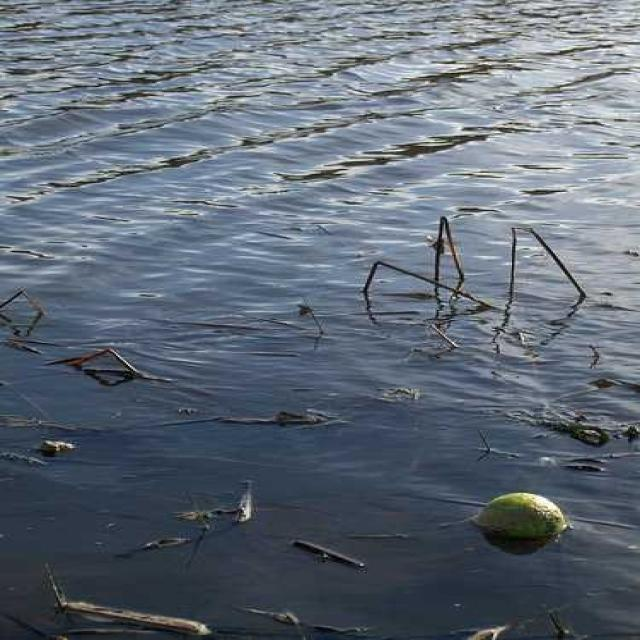Tennis_Ball: (476, 491, 578, 544)
